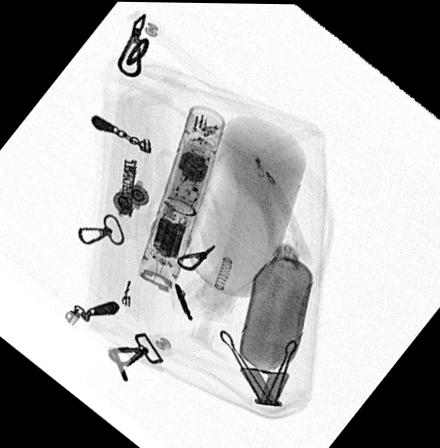Baton: (136, 100, 225, 292)
